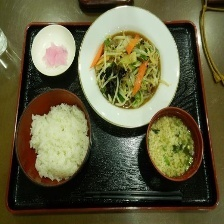rice: (28, 101, 90, 182)
